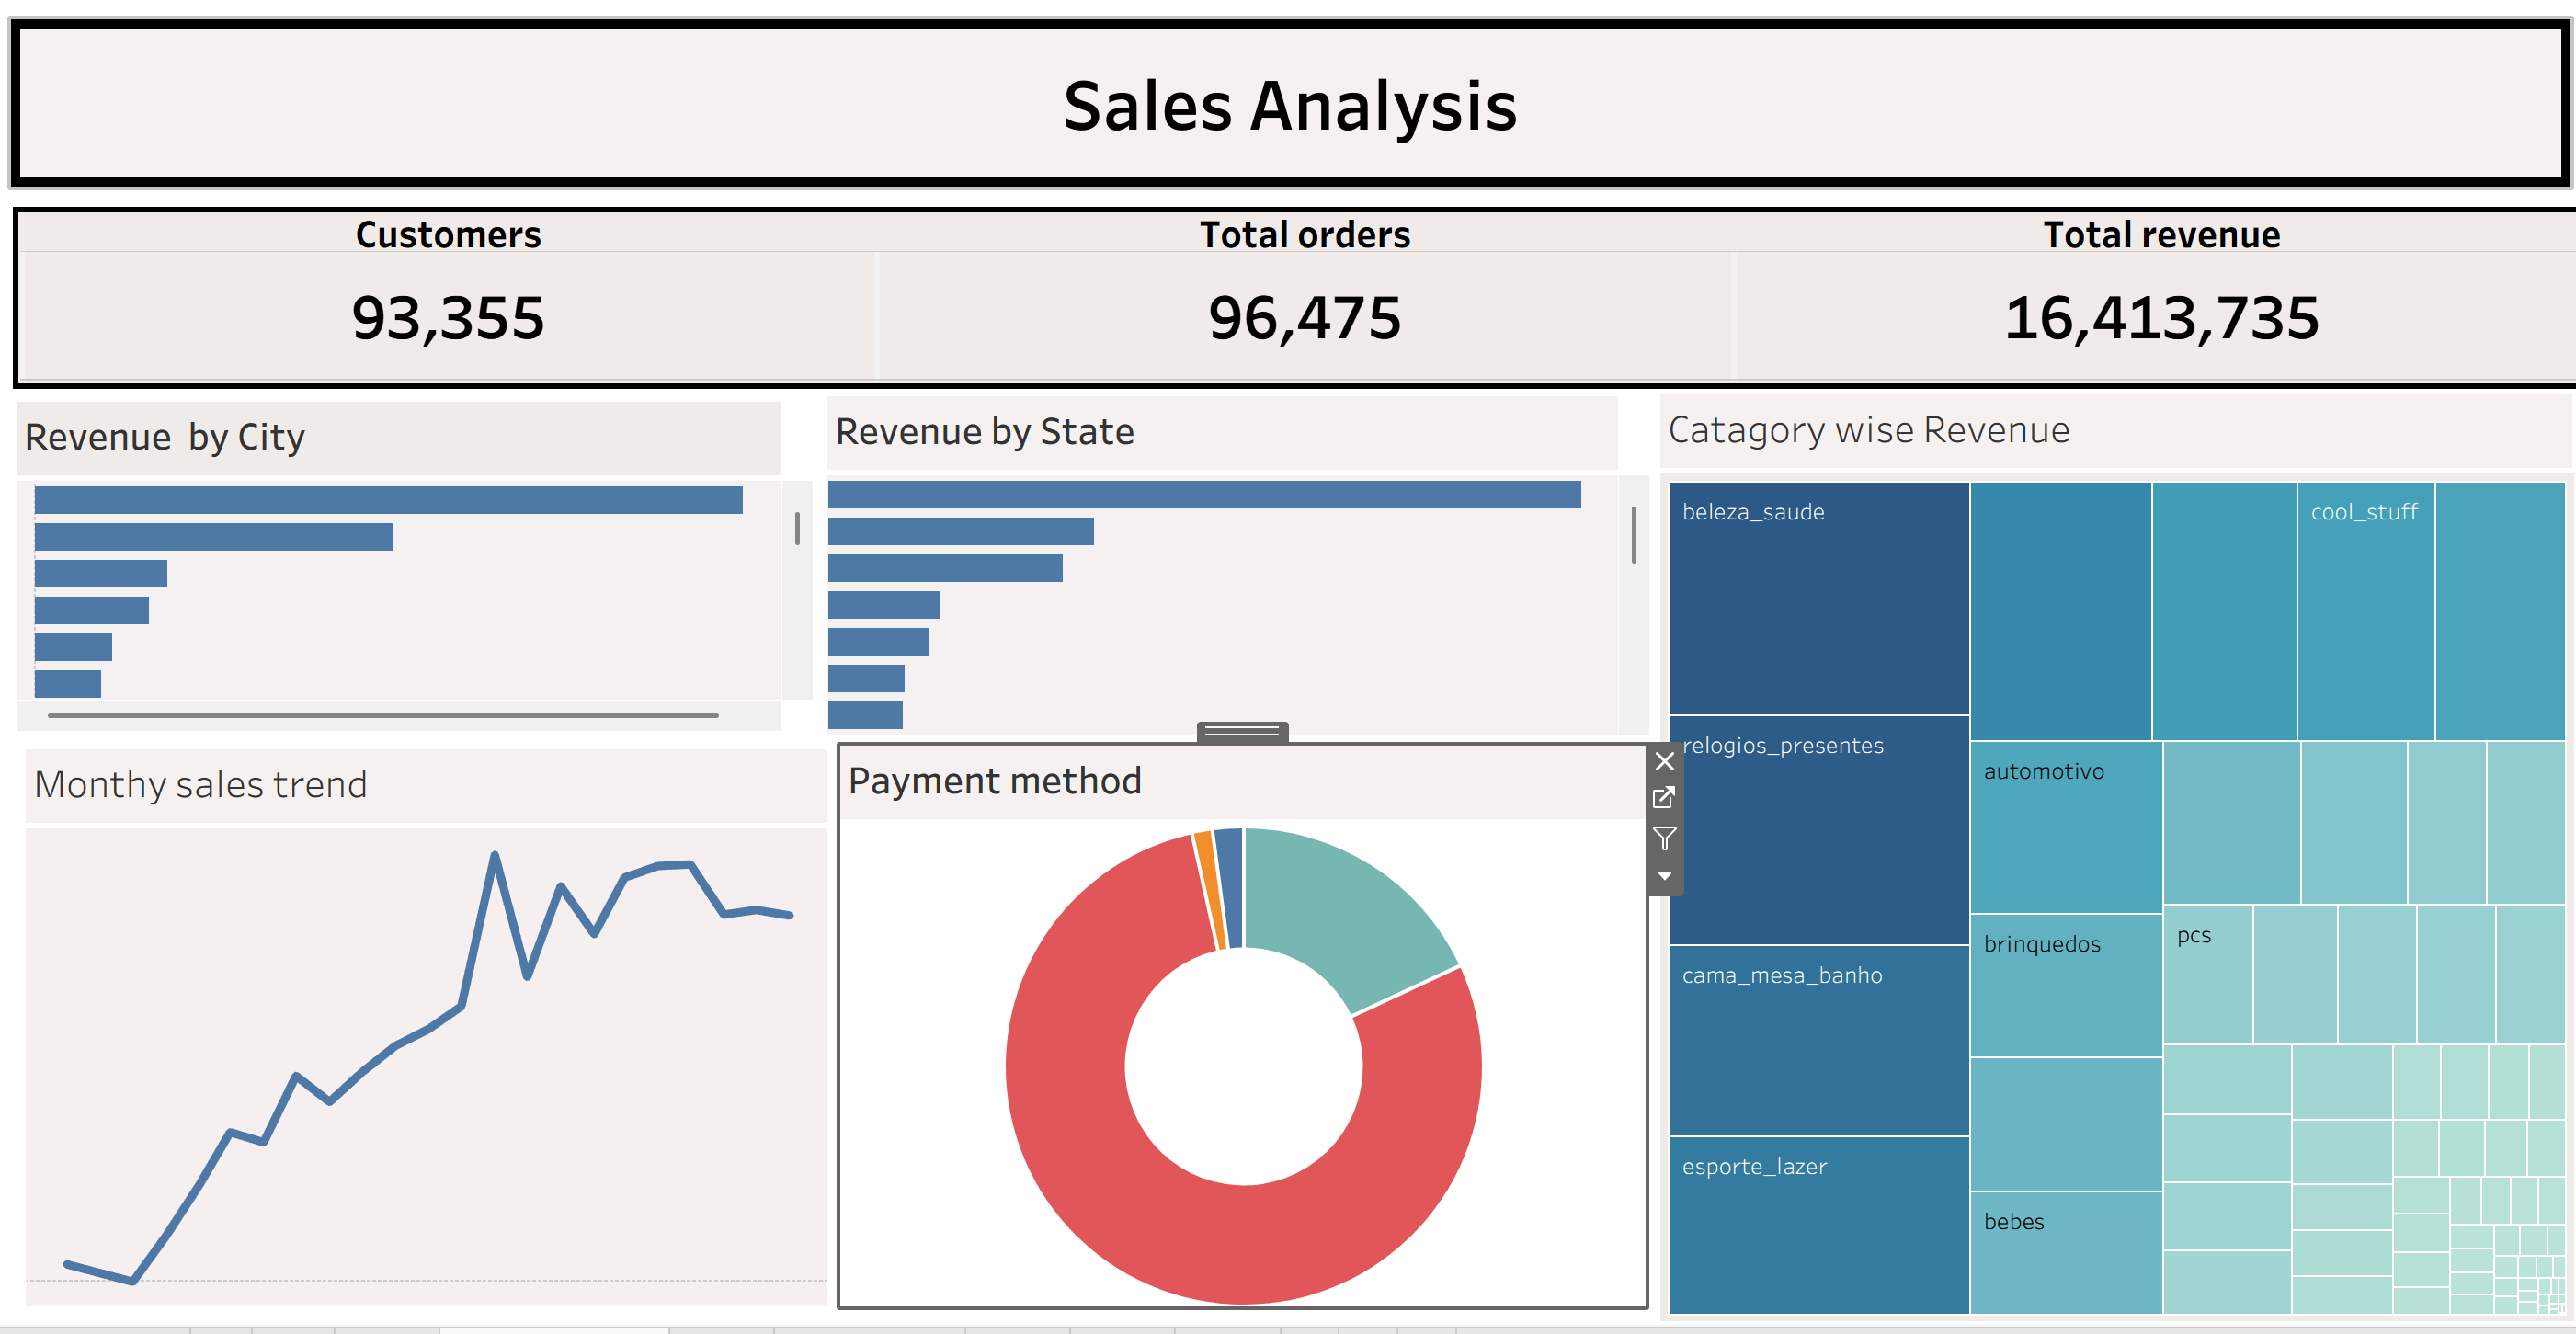

The page's visual inventory and layout, read from the dashboard file:
{"tool":"tableau","page":{"name":"Dashboard 1 (2)","canvas":[1000,1000],"units":"permille","ordinal":0},"visuals":[{"type":"text","box":[5.5,15.3,984.2,126.2]},{"type":"worksheet","title":"KPI","mark":"Automatic","box":[6.2,156.5,995.4,137.1]},{"type":"worksheet","title":"Sheet 5","mark":"Automatic","box":[639.9,298.2,359.3,699]},{"type":"worksheet","title":"Sheet 3","mark":"Automatic","rows":["customer_state"],"cols":["payment_value"],"box":[319.9,299.6,316,255.2]},{"type":"worksheet","title":"Sheet 4","mark":"Automatic","rows":["customer_city"],"cols":["price"],"box":[7.9,303.7,306.5,248.3]},{"type":"worksheet","title":"Sheet 7","mark":"Pie","box":[324.7,563.1,309.7,423]},{"type":"worksheet","title":"Chart","mark":"Automatic","rows":["payment_value"],"cols":["order_purchase_timestamp"],"box":[11,565.9,308.9,420.2]}]}

Visuals, with their boxes on the dashboard's canvas, which has no fixed pixel size, in thousandths of its width and height (x1, y1, x2, y2). These are canvas units, not pixel positions in the 2576x1334 screenshot, which may show the page scaled, cropped or inside an application window:
text: 6/15/990/142
"KPI" worksheet: 6/156/1002/294
"Sheet 5" worksheet: 640/298/999/997
"Sheet 3" worksheet: 320/300/636/555
"Sheet 4" worksheet: 8/304/314/552
"Sheet 7" worksheet (Pie marks): 325/563/634/986
"Chart" worksheet: 11/566/320/986
